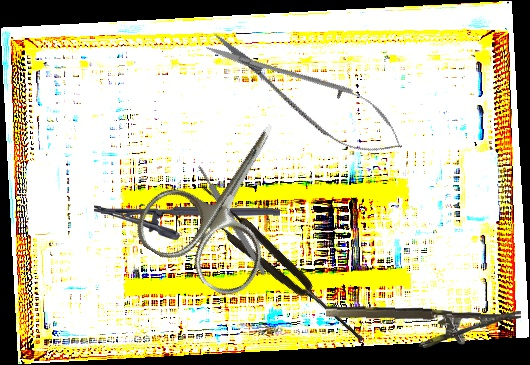Iris Scissors: (126, 91, 328, 305)
Micro Scissor: (196, 16, 415, 172)
Needle Holder: (324, 304, 522, 351), (93, 204, 281, 242)
Scalpel Handle: (196, 163, 268, 278)
Tissue Forceps: (187, 182, 371, 352)
